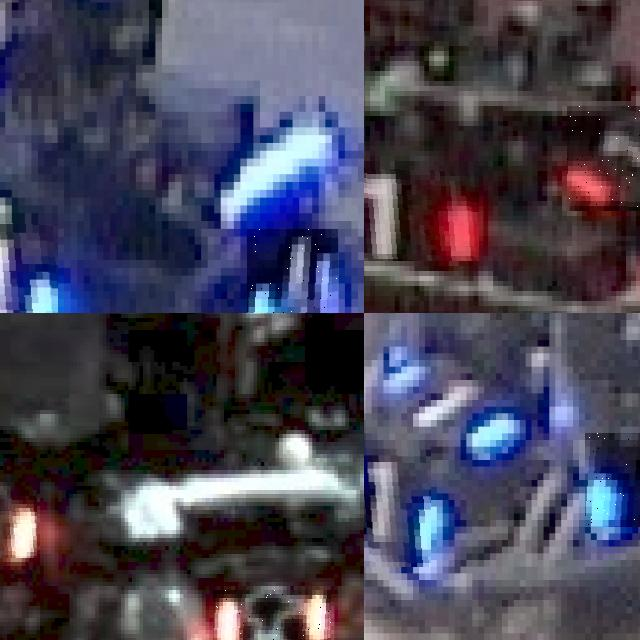B1: (364, 440, 430, 566), (585, 433, 640, 526)
B4: (246, 228, 338, 313), (0, 213, 57, 313)
R1: (364, 161, 478, 261), (567, 106, 640, 211)
Rs: (213, 590, 330, 640), (0, 490, 36, 558)
